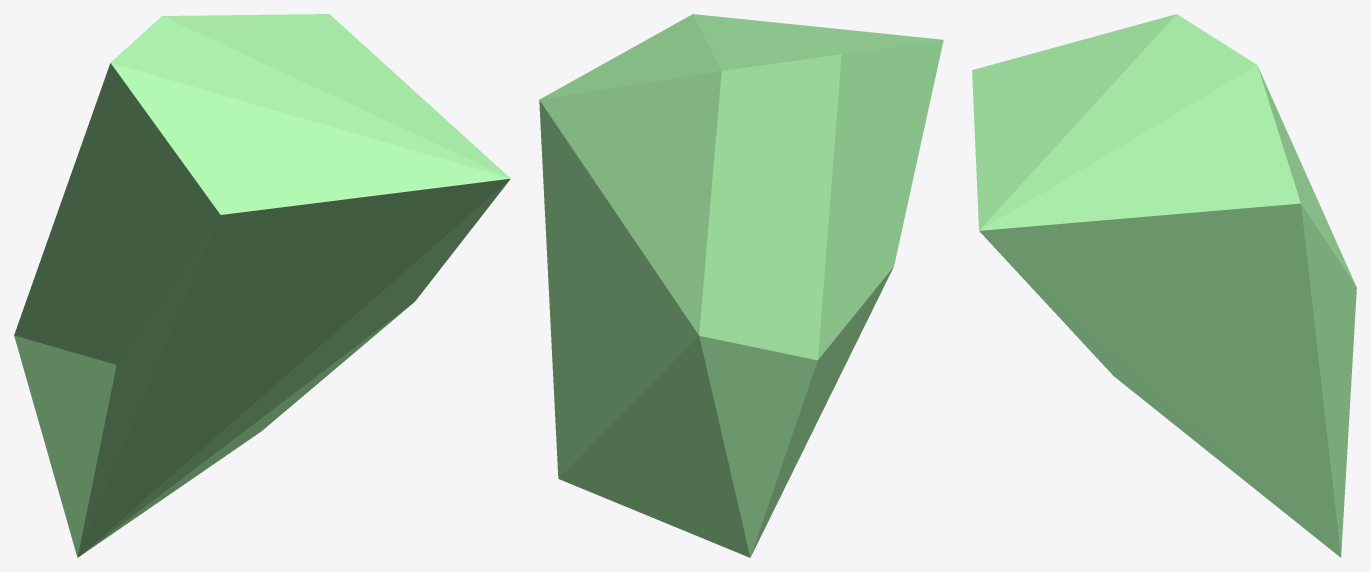
File: UMIRobot_UMIRobot_link_5_convex_coll_50.dae
The picture shows the model from 3 angles, left to right: view 1: azimuth 30°, elevation 25°; view 2: azimuth 150°, elevation 25°; view 3: azimuth 270°, elevation 25°; orthographic projection. The views are drawn at different scales.
Visible parts, largest first — view 1: node; view 2: node; view 3: node.
Part boxes in pixels (x1,y1,x2,y2): node: (14,14,510,557); node: (539,14,943,557); node: (972,14,1356,557).
Size of the model in its own units: 0.00327 by 0.00538 by 0.00382.
